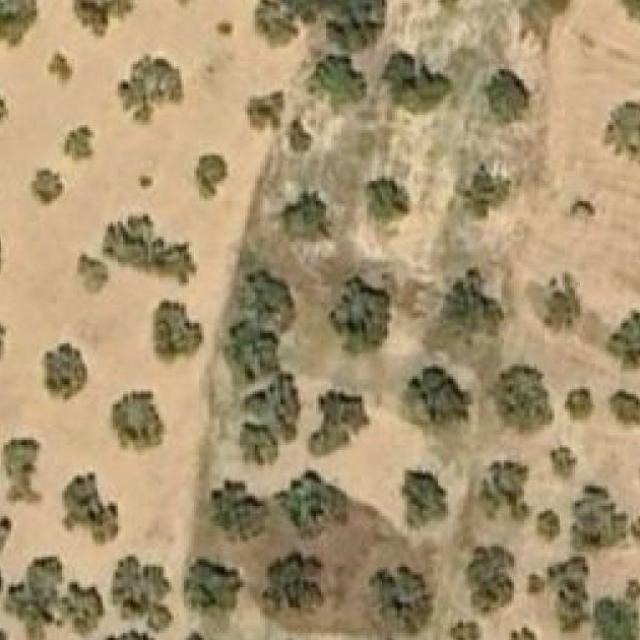Tree: (422, 267, 504, 354), (276, 470, 354, 544), (329, 272, 390, 357), (106, 216, 187, 278), (110, 554, 174, 628), (118, 54, 184, 125), (370, 565, 436, 636), (62, 473, 121, 548), (263, 544, 324, 616), (380, 54, 451, 115), (488, 367, 552, 432), (238, 381, 288, 460), (573, 484, 629, 554), (184, 560, 243, 626), (106, 392, 166, 456), (410, 364, 474, 424), (304, 54, 368, 113), (468, 540, 517, 614), (311, 392, 370, 453), (152, 300, 206, 364), (456, 163, 512, 224), (212, 480, 268, 540), (224, 325, 280, 384), (240, 272, 294, 331), (548, 557, 590, 630), (321, 0, 385, 47), (278, 191, 336, 242), (480, 460, 530, 519), (519, 0, 573, 54), (253, 0, 319, 44), (42, 343, 87, 402), (72, 0, 138, 39), (602, 101, 640, 168), (21, 554, 62, 616), (402, 471, 448, 526), (484, 69, 529, 123), (4, 438, 40, 504), (605, 308, 640, 372), (0, 0, 39, 54), (64, 582, 103, 633), (545, 275, 580, 331), (593, 597, 637, 640), (192, 152, 228, 202), (243, 93, 286, 133), (367, 179, 410, 219), (57, 125, 95, 166), (29, 168, 65, 206), (608, 389, 640, 429), (550, 438, 578, 481), (77, 257, 108, 291), (563, 387, 593, 421), (47, 51, 72, 89), (537, 509, 561, 544), (617, 0, 640, 33), (568, 196, 595, 222), (290, 118, 311, 151), (524, 572, 547, 596), (511, 625, 536, 640), (182, 633, 222, 640), (631, 516, 640, 545), (138, 174, 154, 189), (0, 628, 16, 640)
